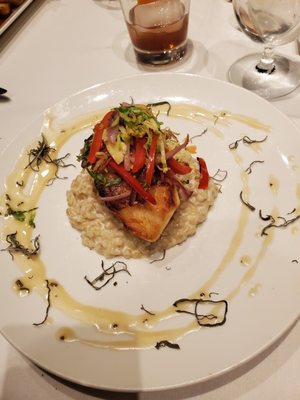pizza: (119, 0, 191, 65)
